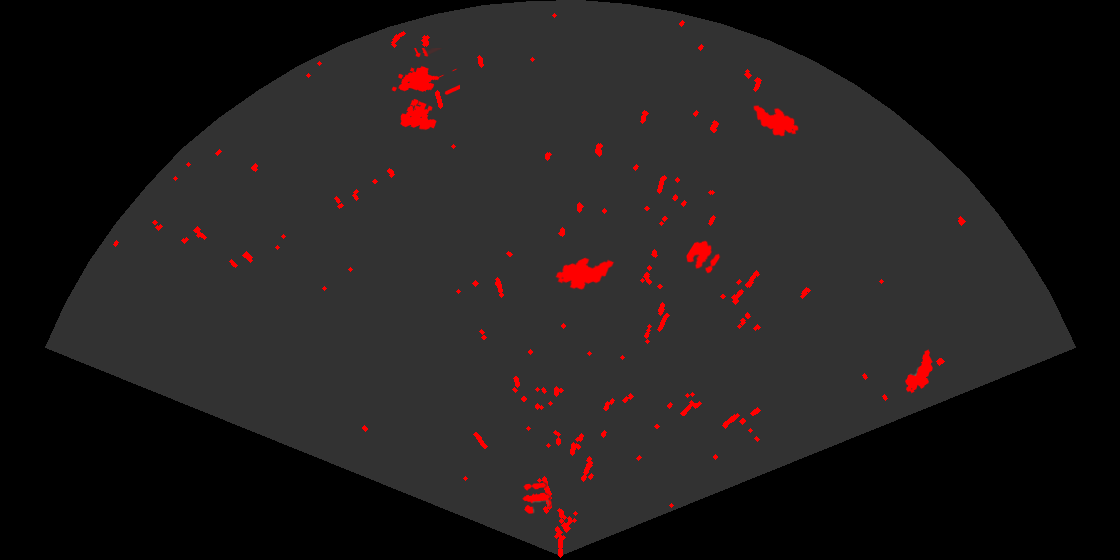AUV: (554, 256, 616, 291), (752, 104, 800, 138), (904, 348, 934, 395)
ball: (685, 239, 722, 275), (521, 481, 553, 515)
cage: (390, 48, 460, 132)
